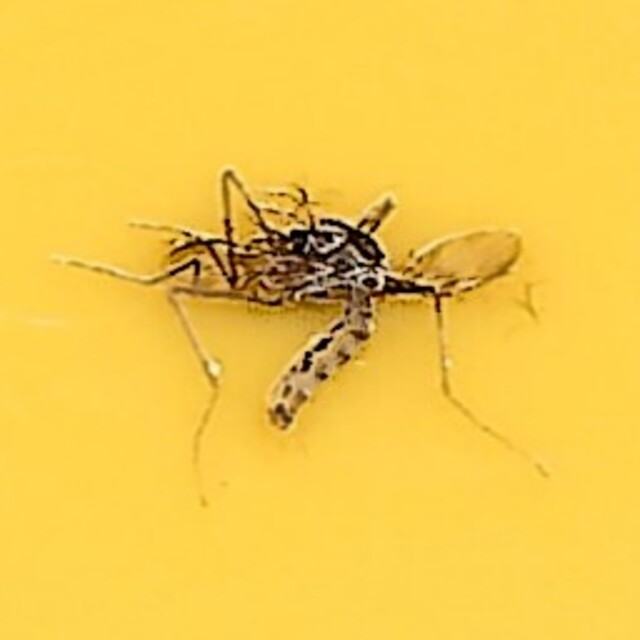Nematocera: (250, 217, 390, 423)
